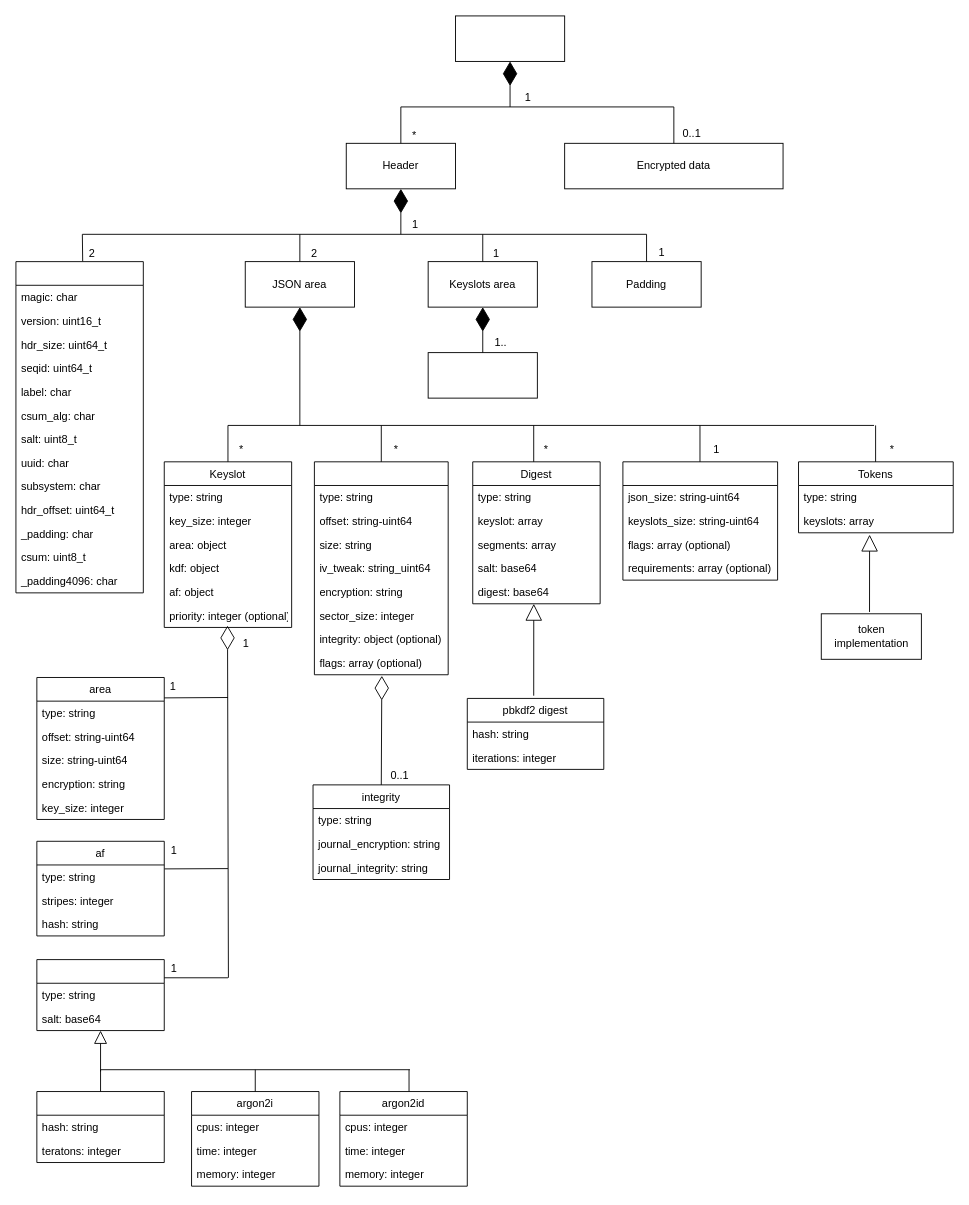
This 969x1205 diagram has some shape labels left out. The shapes that lost their labels are listed below. From the top down, each one's box as (x1, y1, x2, y2) in pixels, then its label:
(455, 15, 565, 61): LUKS encrypted file
(427, 352, 537, 398): Keyslot binary data
(15, 261, 143, 593): Binary header
(622, 461, 778, 580): Config
(313, 461, 448, 675): Segments
(36, 959, 164, 1031): kdf
(36, 1091, 164, 1163): pbkdf2
